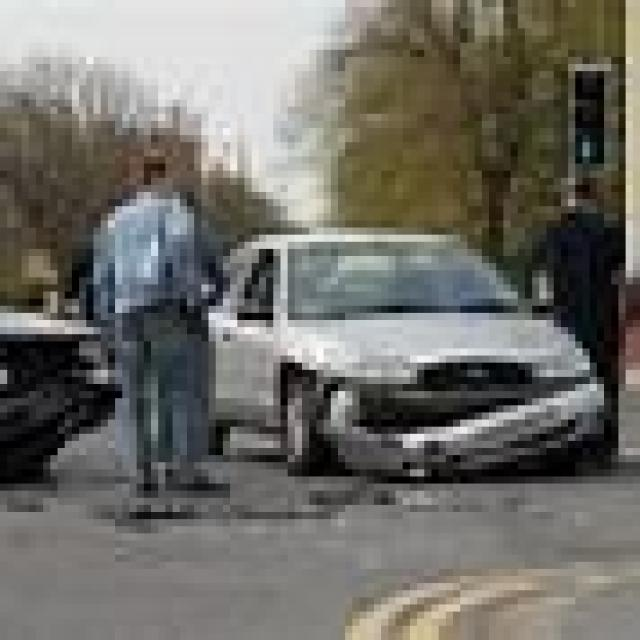Nguy hiểm: (198, 206, 629, 498)
